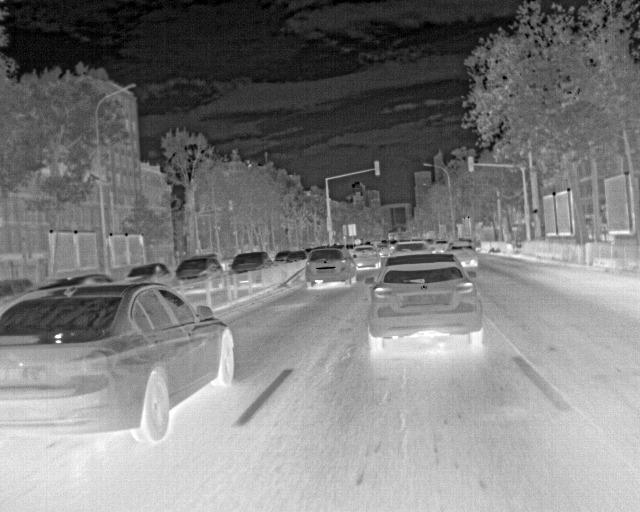car: (0, 281, 234, 445), (364, 253, 484, 352), (305, 246, 358, 289), (176, 257, 225, 290), (228, 251, 275, 285), (125, 263, 172, 287), (0, 278, 34, 309), (350, 245, 381, 269), (56, 273, 113, 286), (390, 240, 433, 257), (448, 246, 478, 268), (286, 249, 308, 263), (431, 239, 450, 255), (274, 250, 291, 264), (451, 237, 472, 247), (376, 244, 391, 256), (370, 239, 388, 248), (387, 240, 398, 250), (388, 232, 398, 241)
light: (468, 157, 473, 172), (375, 161, 379, 175), (327, 218, 331, 231), (525, 206, 528, 215)
sign: (348, 224, 356, 236), (355, 238, 361, 245)
